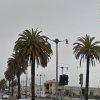Palm tree: (9, 21, 46, 99)
